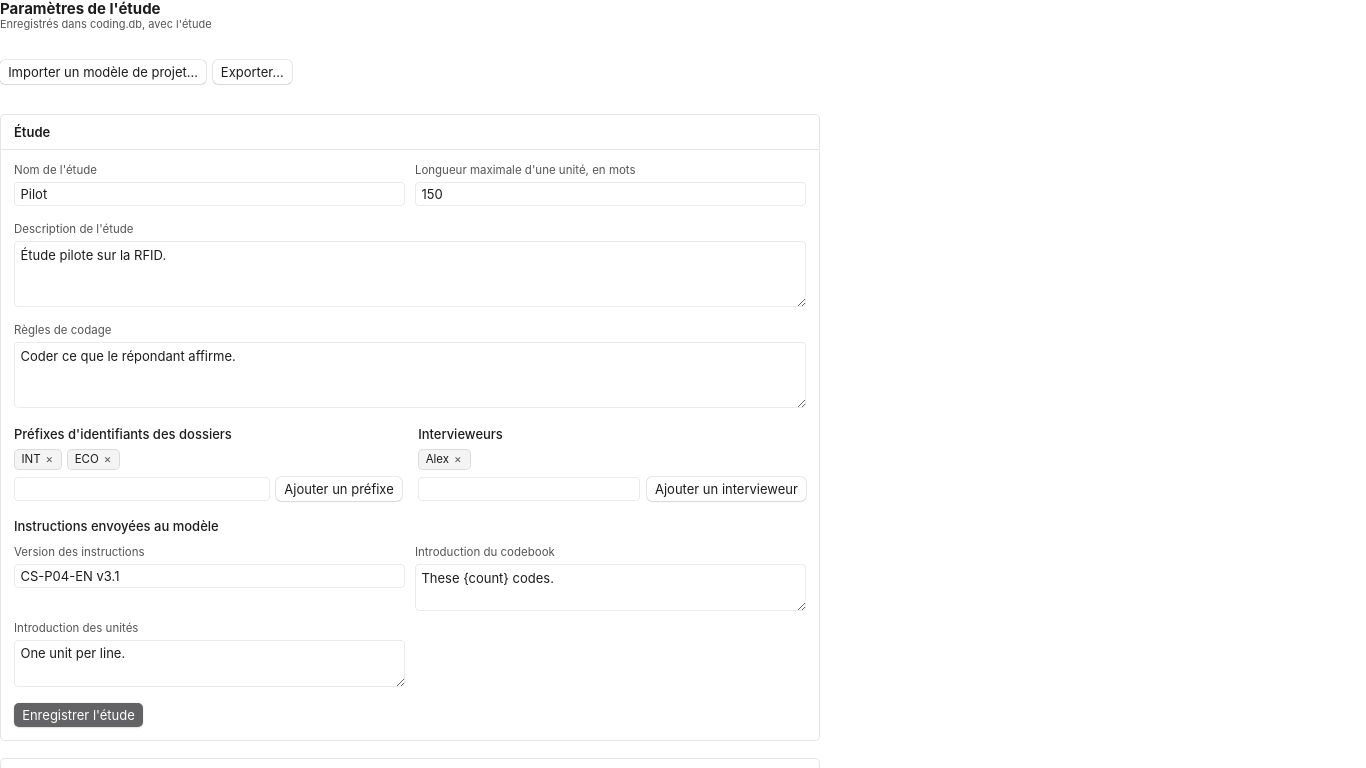
Test: study configuration form › does not force when the guard confirmation is cancelled
This screenshot has width=1366, height=768.
Expected: the field showing "Pilot" is shown, [14,182,405,206]
Click the button "Enregistrer l'étude": click(78, 715) [14,703,143,727]
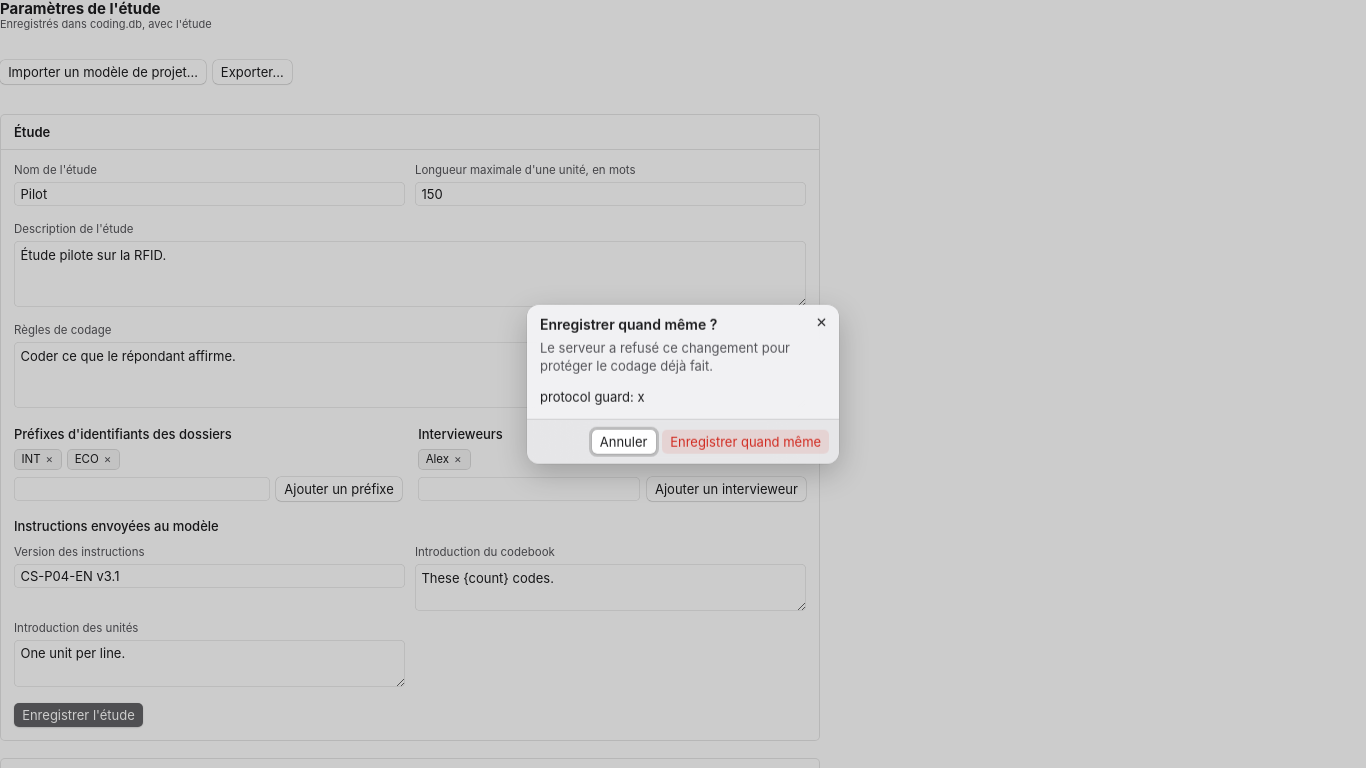
Click the button "Annuler": click(624, 442) [592,430,656,454]
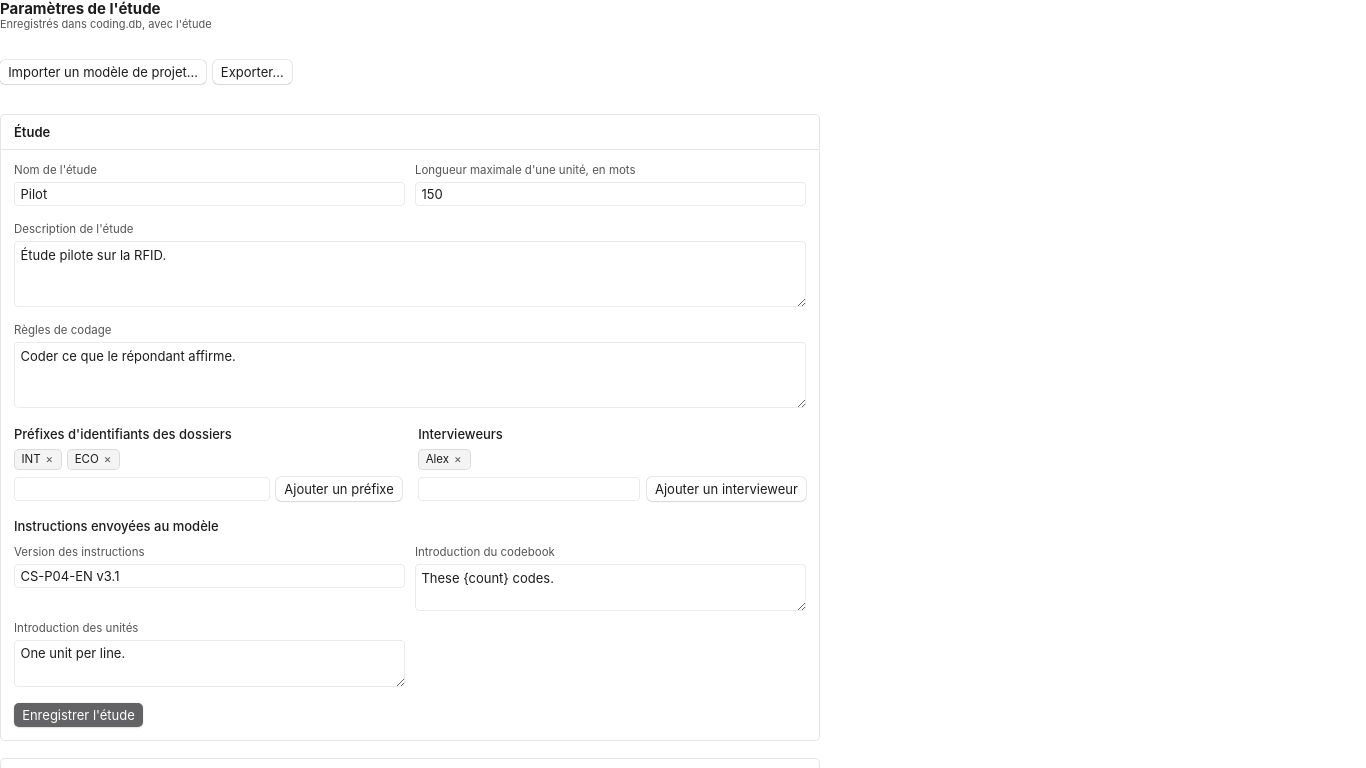
Now the dialog is gone
